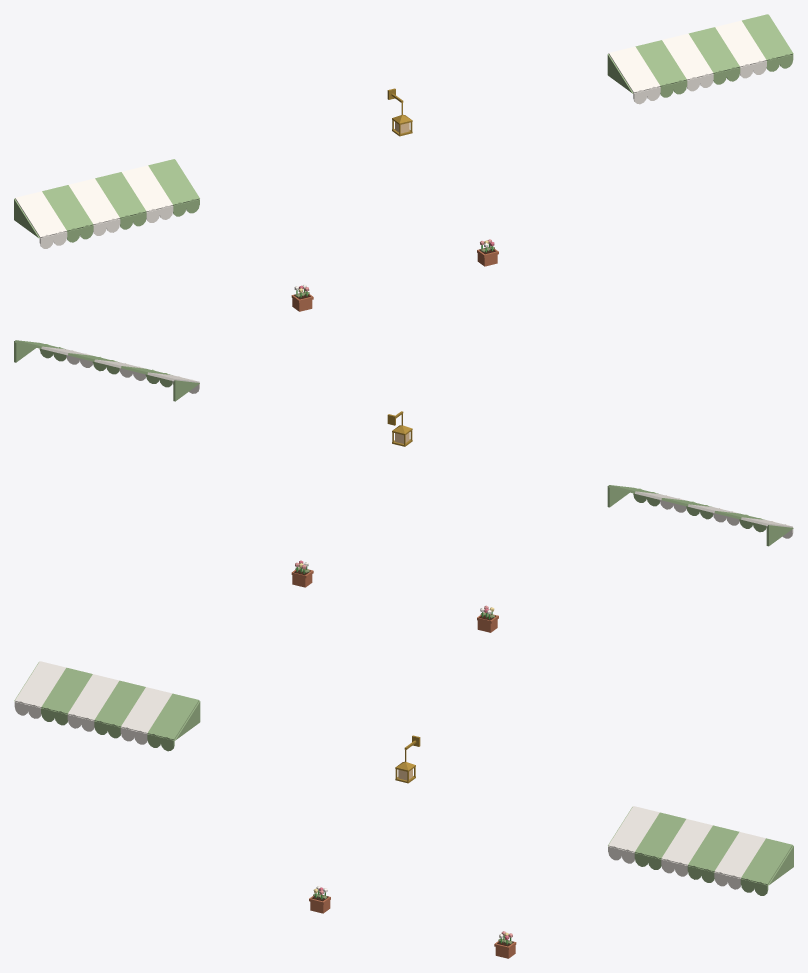
Rendered from CatCafe_Plot_ThemeGarden_56x43.glb.
3 views of the same model, one above another, from view 1: azimuth 30°, elevation 25°; view 2: azimuth 150°, elevation 25°; view 3: azimuth 330°, elevation 25° (orthographic).
Visible parts, largest first — view 1: CatCafe_Plot_ThemeGarden_56x43_Awning, CatCafe_Plot_ThemeGarden_56x43; view 2: CatCafe_Plot_ThemeGarden_56x43_Awning, CatCafe_Plot_ThemeGarden_56x43; view 3: CatCafe_Plot_ThemeGarden_56x43_Awning, CatCafe_Plot_ThemeGarden_56x43.
Part boxes in pixels (x1,y1,x2,y2): CatCafe_Plot_ThemeGarden_56x43_Awning: (14, 14, 793, 248); CatCafe_Plot_ThemeGarden_56x43: (291, 88, 498, 311); CatCafe_Plot_ThemeGarden_56x43_Awning: (14, 340, 793, 546); CatCafe_Plot_ThemeGarden_56x43: (291, 411, 498, 632); CatCafe_Plot_ThemeGarden_56x43_Awning: (14, 661, 793, 895); CatCafe_Plot_ThemeGarden_56x43: (309, 735, 516, 958).
Size of the model in its own units: 52.15 by 12.75 by 3.09.
Materials: 1 (1 with a texture image).
